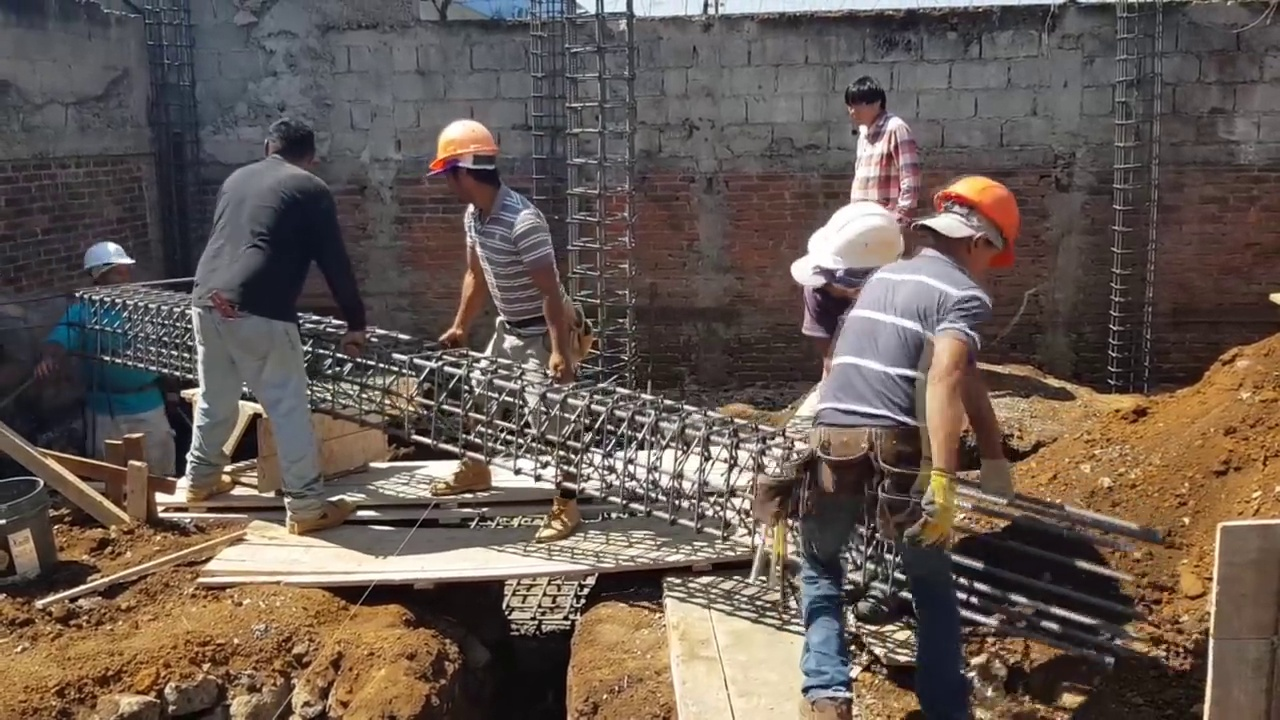helmet: (804, 200, 905, 284), (935, 173, 1019, 262), (425, 122, 500, 174), (83, 240, 137, 277)
helmet-off: (263, 121, 316, 176), (846, 74, 889, 124)
helmet-on: (796, 200, 906, 309), (921, 173, 1019, 272), (424, 121, 501, 210), (78, 242, 143, 294)
person: (768, 204, 996, 704), (182, 106, 376, 541), (426, 121, 588, 543), (37, 237, 176, 483), (830, 72, 924, 237)
